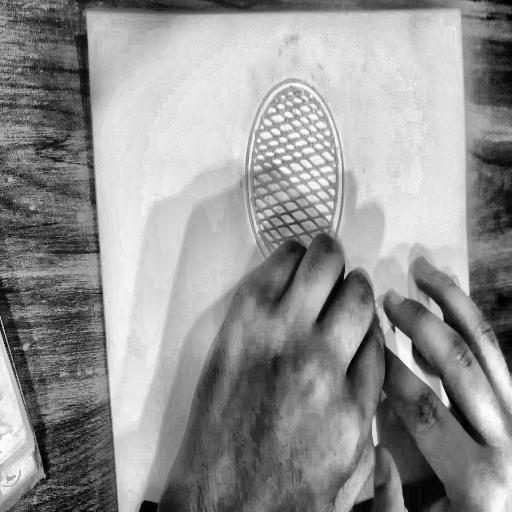badminton: (207, 68, 408, 510)
bottom_right: (467, 391, 477, 408)
top_left: (83, 6, 91, 19)
top_right: (457, 4, 464, 17)
